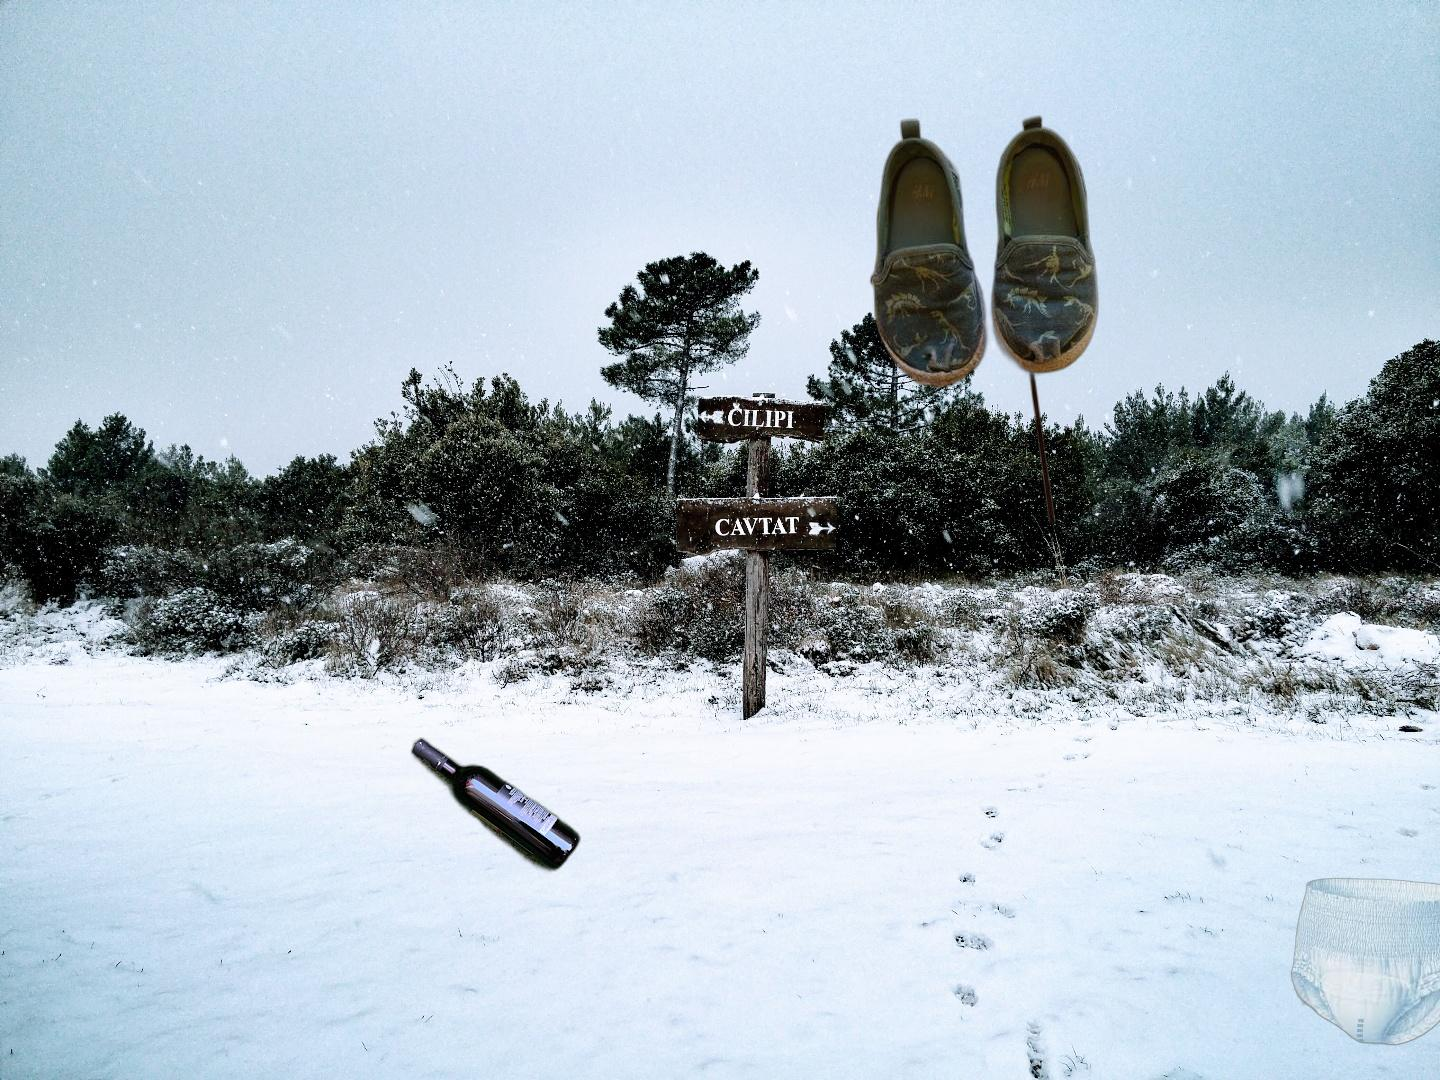glass: (407, 478, 691, 876)
shoes: (867, 112, 1101, 523)
trash: (1288, 875, 1440, 1048)
